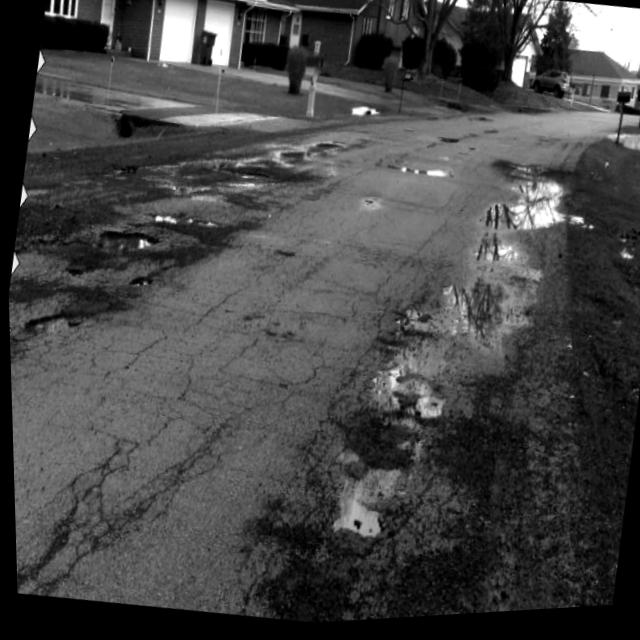pathole: (333, 149, 608, 614), (7, 99, 352, 389)
